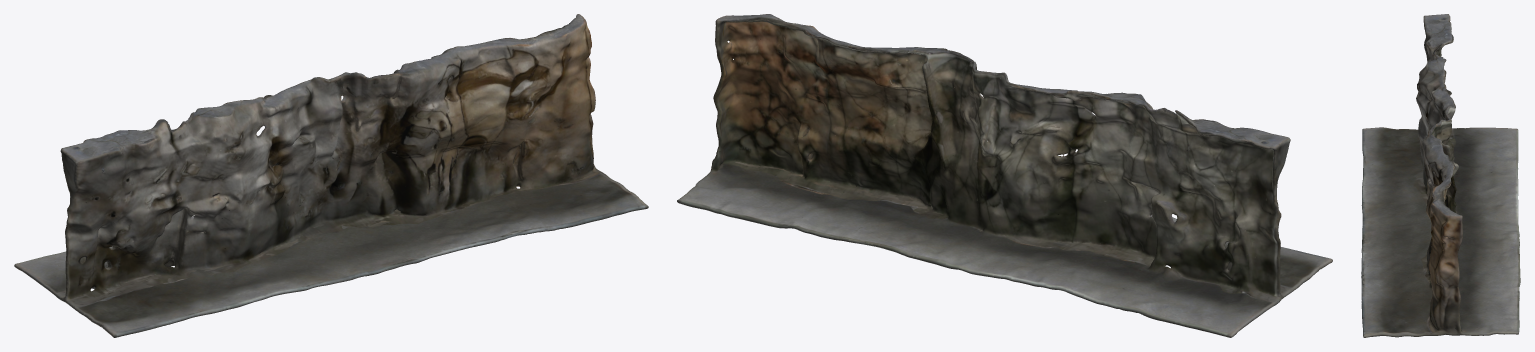
The model's file is Meshy_AI_wallCave_0204184935_texture.glb.
3 views of the same model, side by side, from view 1: azimuth 30°, elevation 25°; view 2: azimuth 150°, elevation 25°; view 3: azimuth 270°, elevation 25° (orthographic). The views are drawn at different scales.
Size of the model in its own units: 2 by 0.568 by 0.6512.
Materials: 1 (1 with a texture image).
